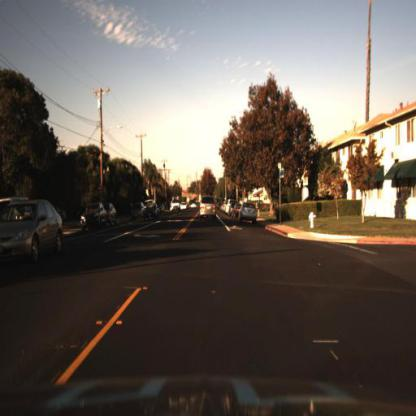car: (2, 199, 67, 275), (80, 202, 108, 237), (197, 191, 224, 223), (240, 202, 258, 227), (104, 201, 120, 227), (145, 202, 163, 224), (107, 200, 118, 227), (232, 203, 242, 223)
